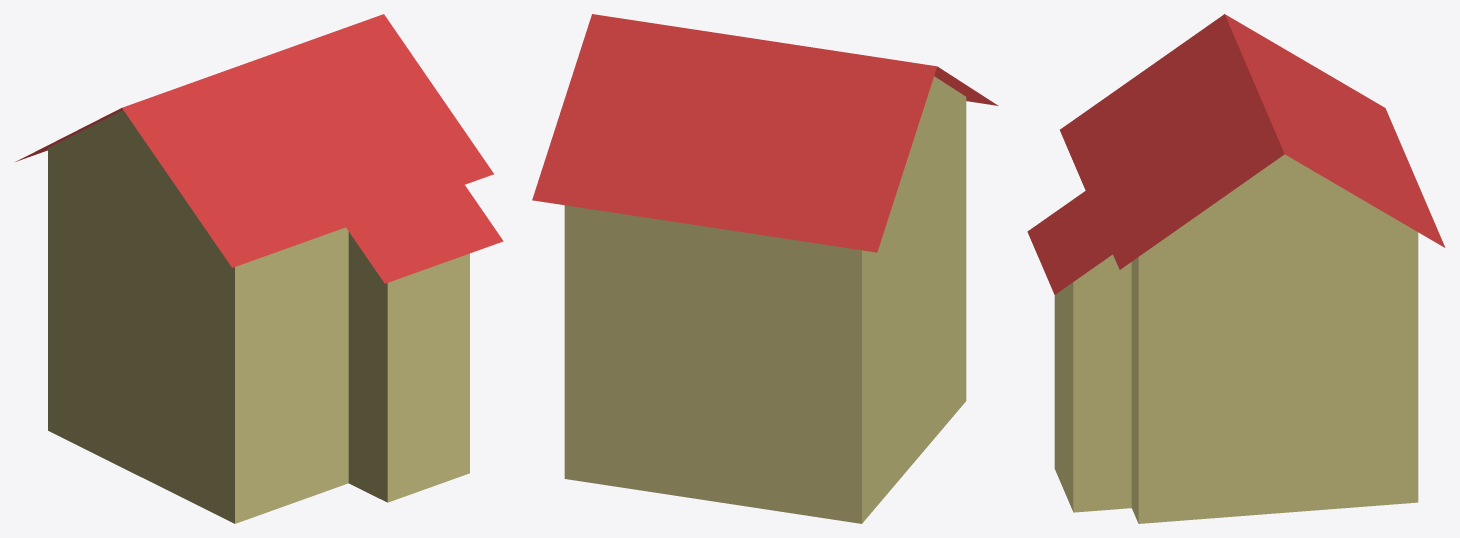
3 renders of one model, left to right at view 1: azimuth 30°, elevation 25°; view 2: azimuth 150°, elevation 25°; view 3: azimuth 270°, elevation 25°, orthographic. The views are drawn at different scales.
Bounding box in the file's own units: 12.53 × 13.4 × 13.03.
